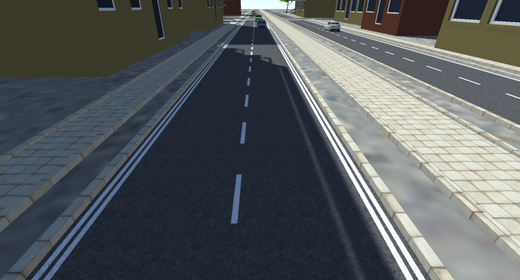centerstrip: (229, 27, 257, 224)
sidestripe: (29, 41, 224, 278), (269, 31, 428, 280)
